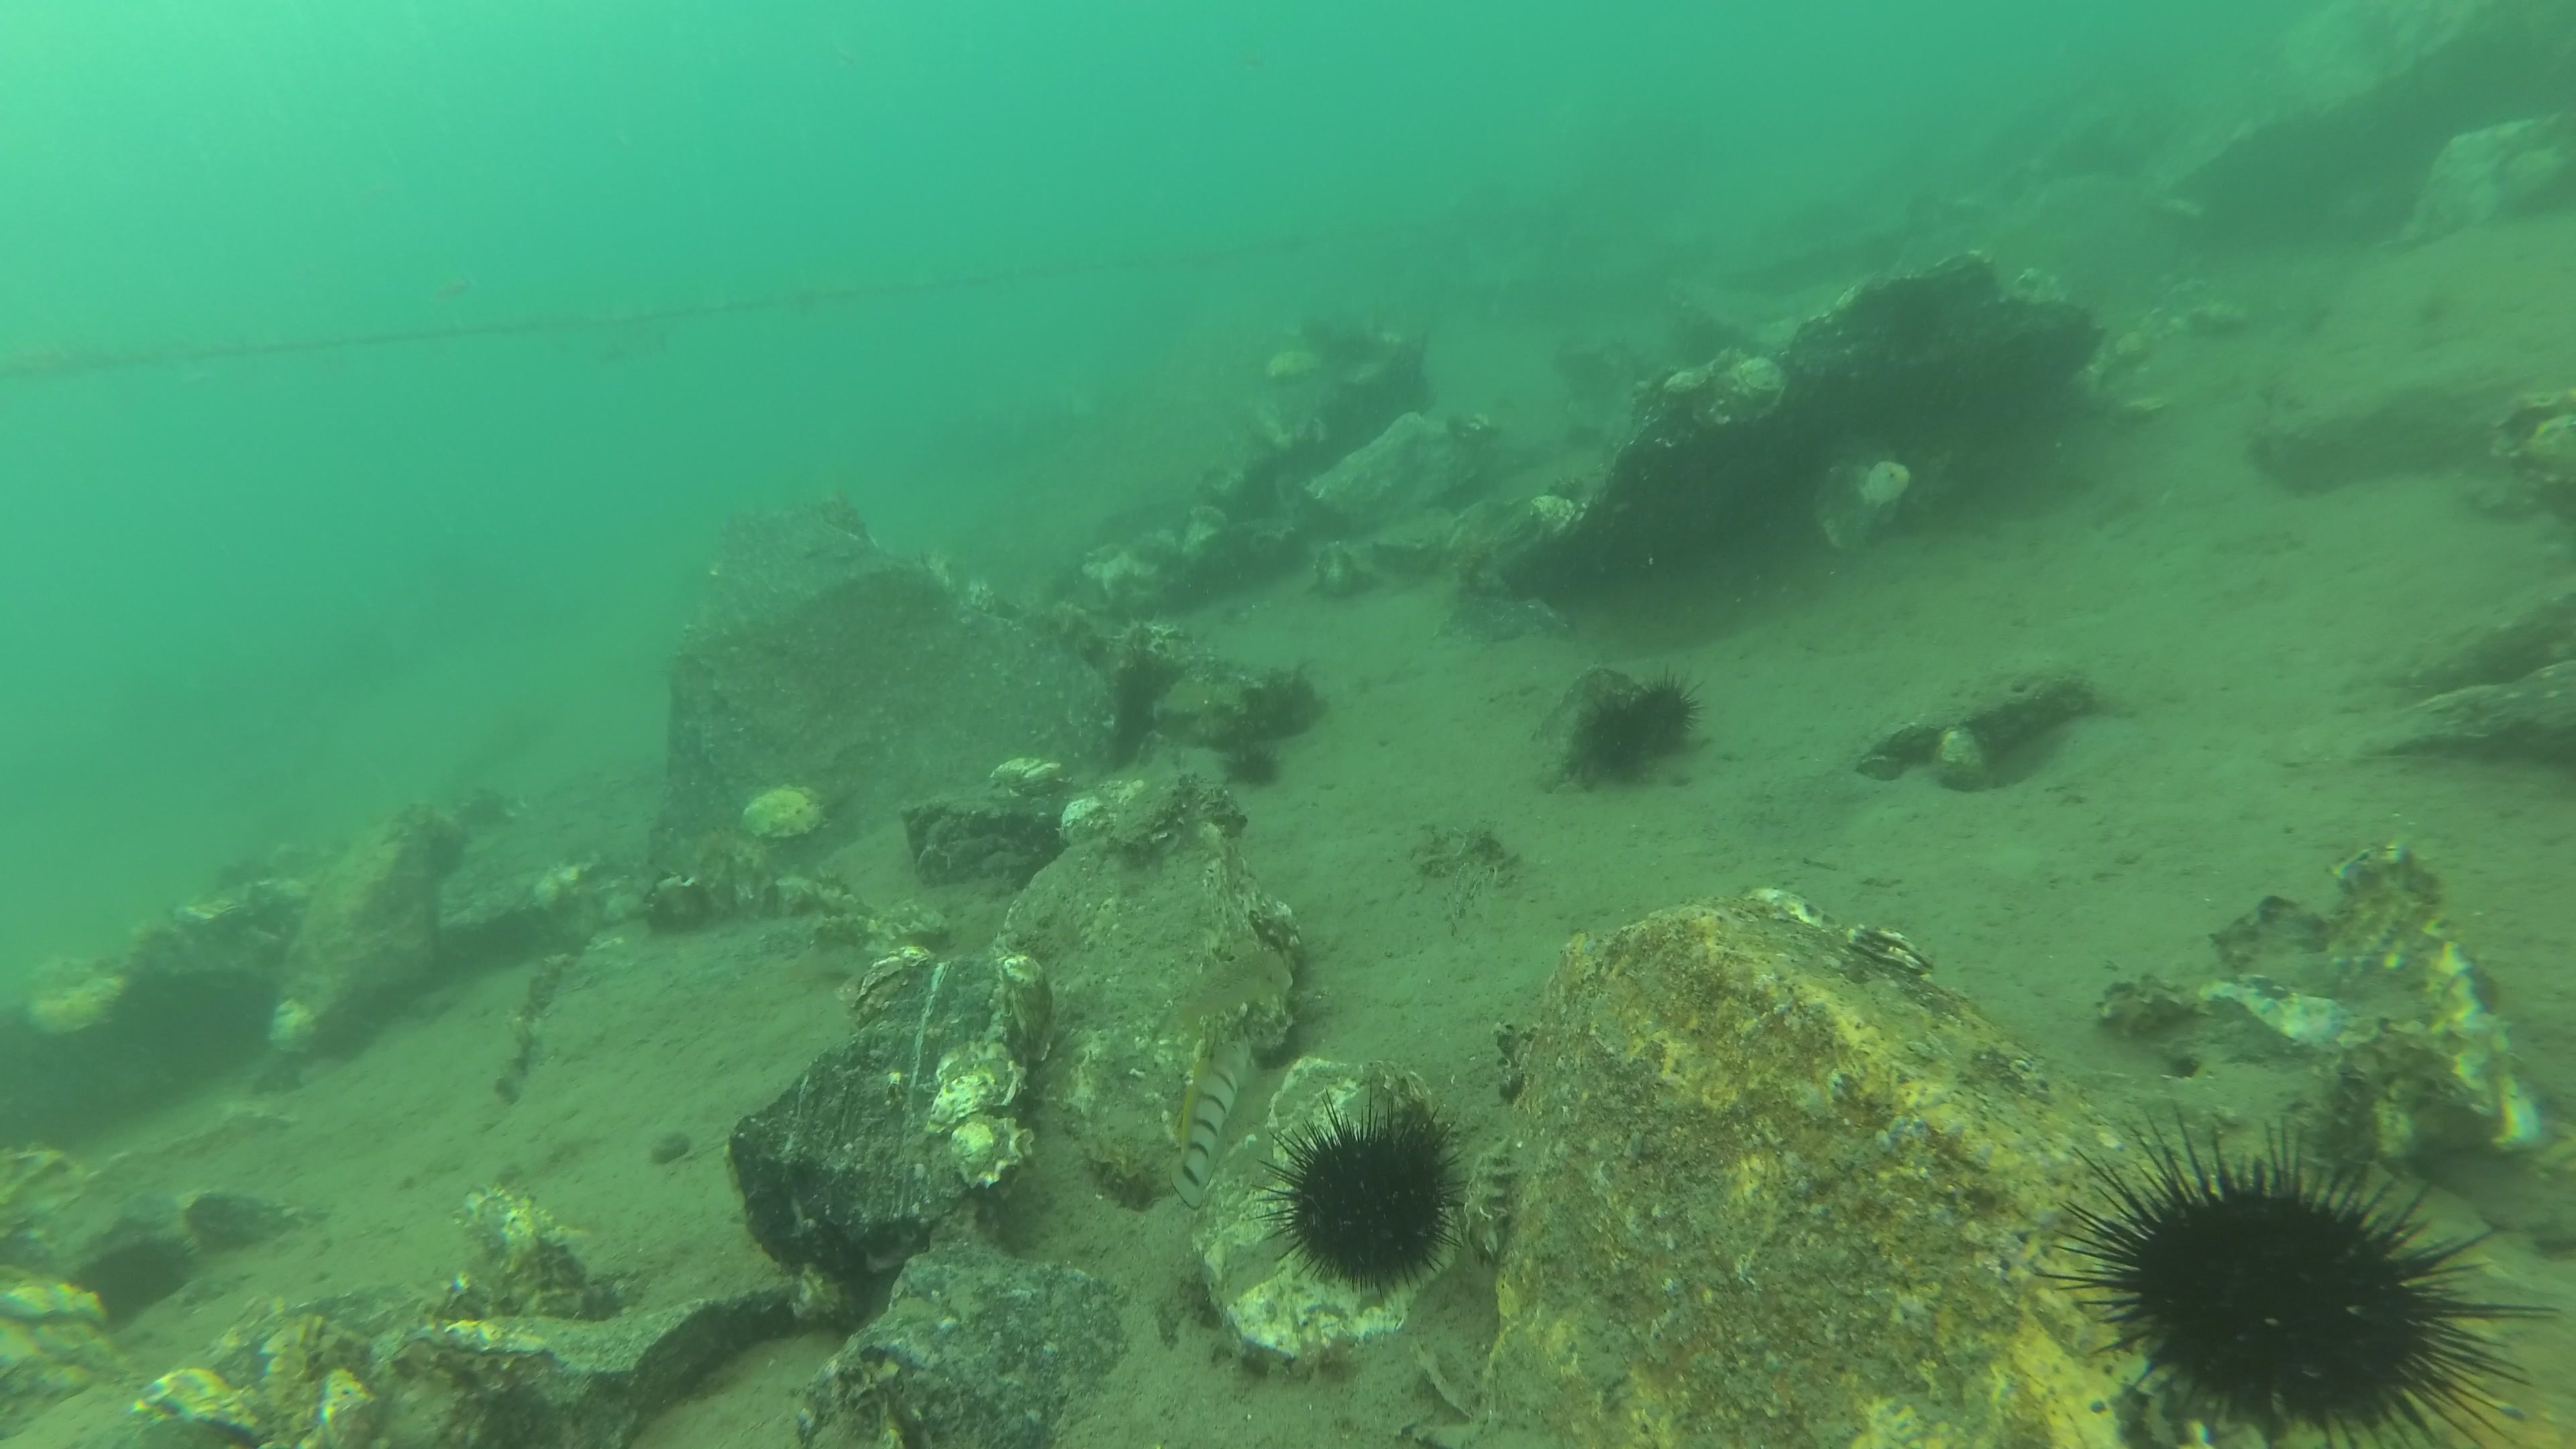echinus: (2029, 1100, 2565, 1449), (1249, 1072, 1472, 1302), (1637, 660, 1709, 745), (1583, 688, 1645, 771), (1886, 272, 1941, 357), (1221, 741, 1283, 787)
